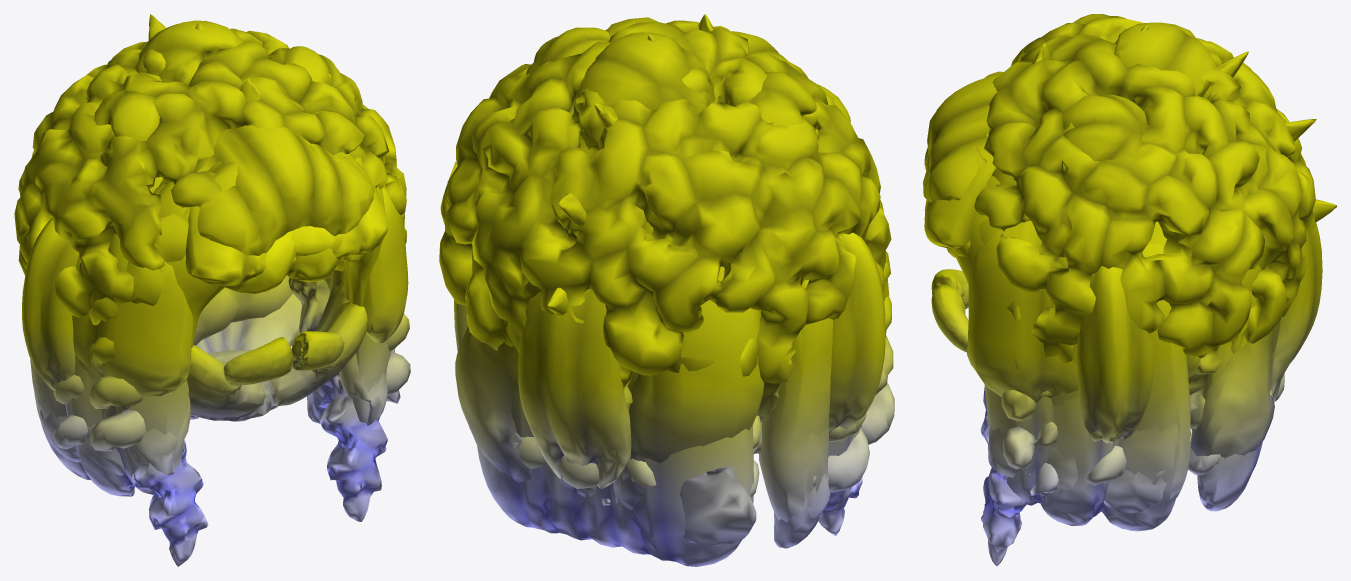
Rendered from doll_hair.glb.
3 renders of one model, left to right at view 1: azimuth 30°, elevation 25°; view 2: azimuth 150°, elevation 25°; view 3: azimuth 270°, elevation 25°, orthographic. The views are drawn at different scales.
Parts seen in each view (by area): view 1: hair_afro__hair, hair_bob__hair, hair_davidcut__hair, hair_braids__hair, hair_sleek__hair, hair_curls__hair, hair_waves__hair, beard_full__beard, hair_pigtails__hair, hair_spacebuns__hair, beard_mustache__beard, hair_bun__hair (+4 smaller); view 2: hair_afro__hair, hair_waves__hair, hair_sleek__hair, hair_ponytail__hair, hair_pigtails__hair, hair_bun__hair, hair_curls__hair, hair_spacebuns__hair, hair_mohawk__hair, hair_davidcut__hair, hair_braids__hair; view 3: hair_afro__hair, hair_waves__hair, hair_sleek__hair, hair_bob__hair, hair_pigtails__hair, hair_curls__hair, hair_davidcut__hair, hair_spacebuns__hair, hair_bun__hair, hair_ponytail__hair, hair_braids__hair, beard_mustache__beard (+1 smaller).
Part boxes in pixels (x1,y1,x2,y2): hair_afro__hair: [14, 28, 406, 345]; hair_bob__hair: [73, 152, 408, 397]; hair_davidcut__hair: [197, 125, 373, 255]; hair_braids__hair: [132, 183, 387, 566]; hair_sleek__hair: [30, 177, 391, 496]; hair_curls__hair: [38, 145, 410, 451]; hair_waves__hair: [34, 231, 387, 475]; beard_full__beard: [186, 280, 367, 421]; hair_pigtails__hair: [22, 154, 404, 390]; hair_spacebuns__hair: [94, 46, 344, 166]; beard_mustache__beard: [223, 331, 344, 384]; hair_bun__hair: [135, 20, 243, 84]; hair_afro__hair: [439, 17, 891, 421]; hair_waves__hair: [454, 250, 832, 545]; hair_sleek__hair: [472, 262, 861, 566]; hair_ponytail__hair: [518, 289, 631, 488]; hair_pigtails__hair: [828, 232, 885, 433]; hair_bun__hair: [572, 32, 715, 147]; hair_curls__hair: [519, 200, 894, 505]; hair_spacebuns__hair: [526, 27, 819, 150]; hair_mohawk__hair: [547, 14, 713, 315]; hair_davidcut__hair: [731, 31, 850, 122]; hair_braids__hair: [760, 310, 862, 535]; hair_afro__hair: [972, 18, 1315, 395]; hair_waves__hair: [923, 164, 1279, 513]; hair_sleek__hair: [955, 184, 1273, 531]; hair_bob__hair: [924, 147, 1202, 402]; hair_pigtails__hair: [987, 167, 1154, 443]; hair_curls__hair: [950, 168, 1284, 495]; hair_davidcut__hair: [927, 74, 1000, 202]; hair_spacebuns__hair: [1062, 14, 1146, 161]; hair_bun__hair: [1114, 22, 1215, 99]; hair_ponytail__hair: [1270, 222, 1322, 402]; hair_braids__hair: [978, 218, 1029, 566]; beard_mustache__beard: [931, 269, 968, 352].
Bounding box in the file's own units: 0.7086 × 0.8391 × 0.6351.
